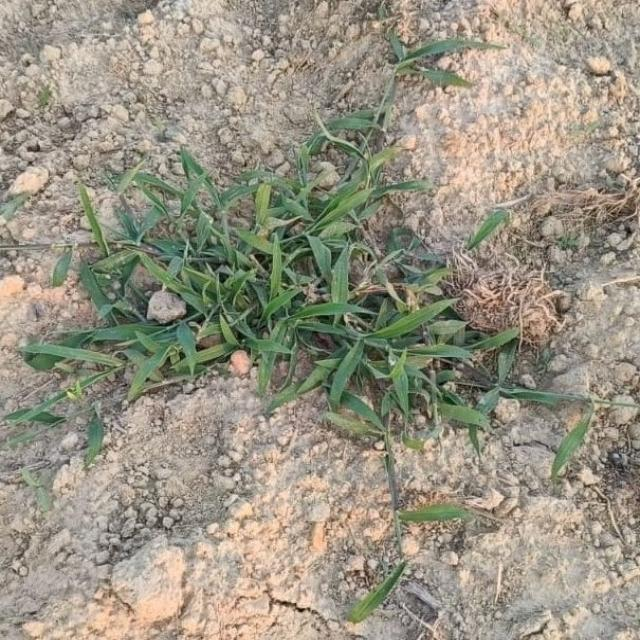weed: (21, 39, 565, 447)
